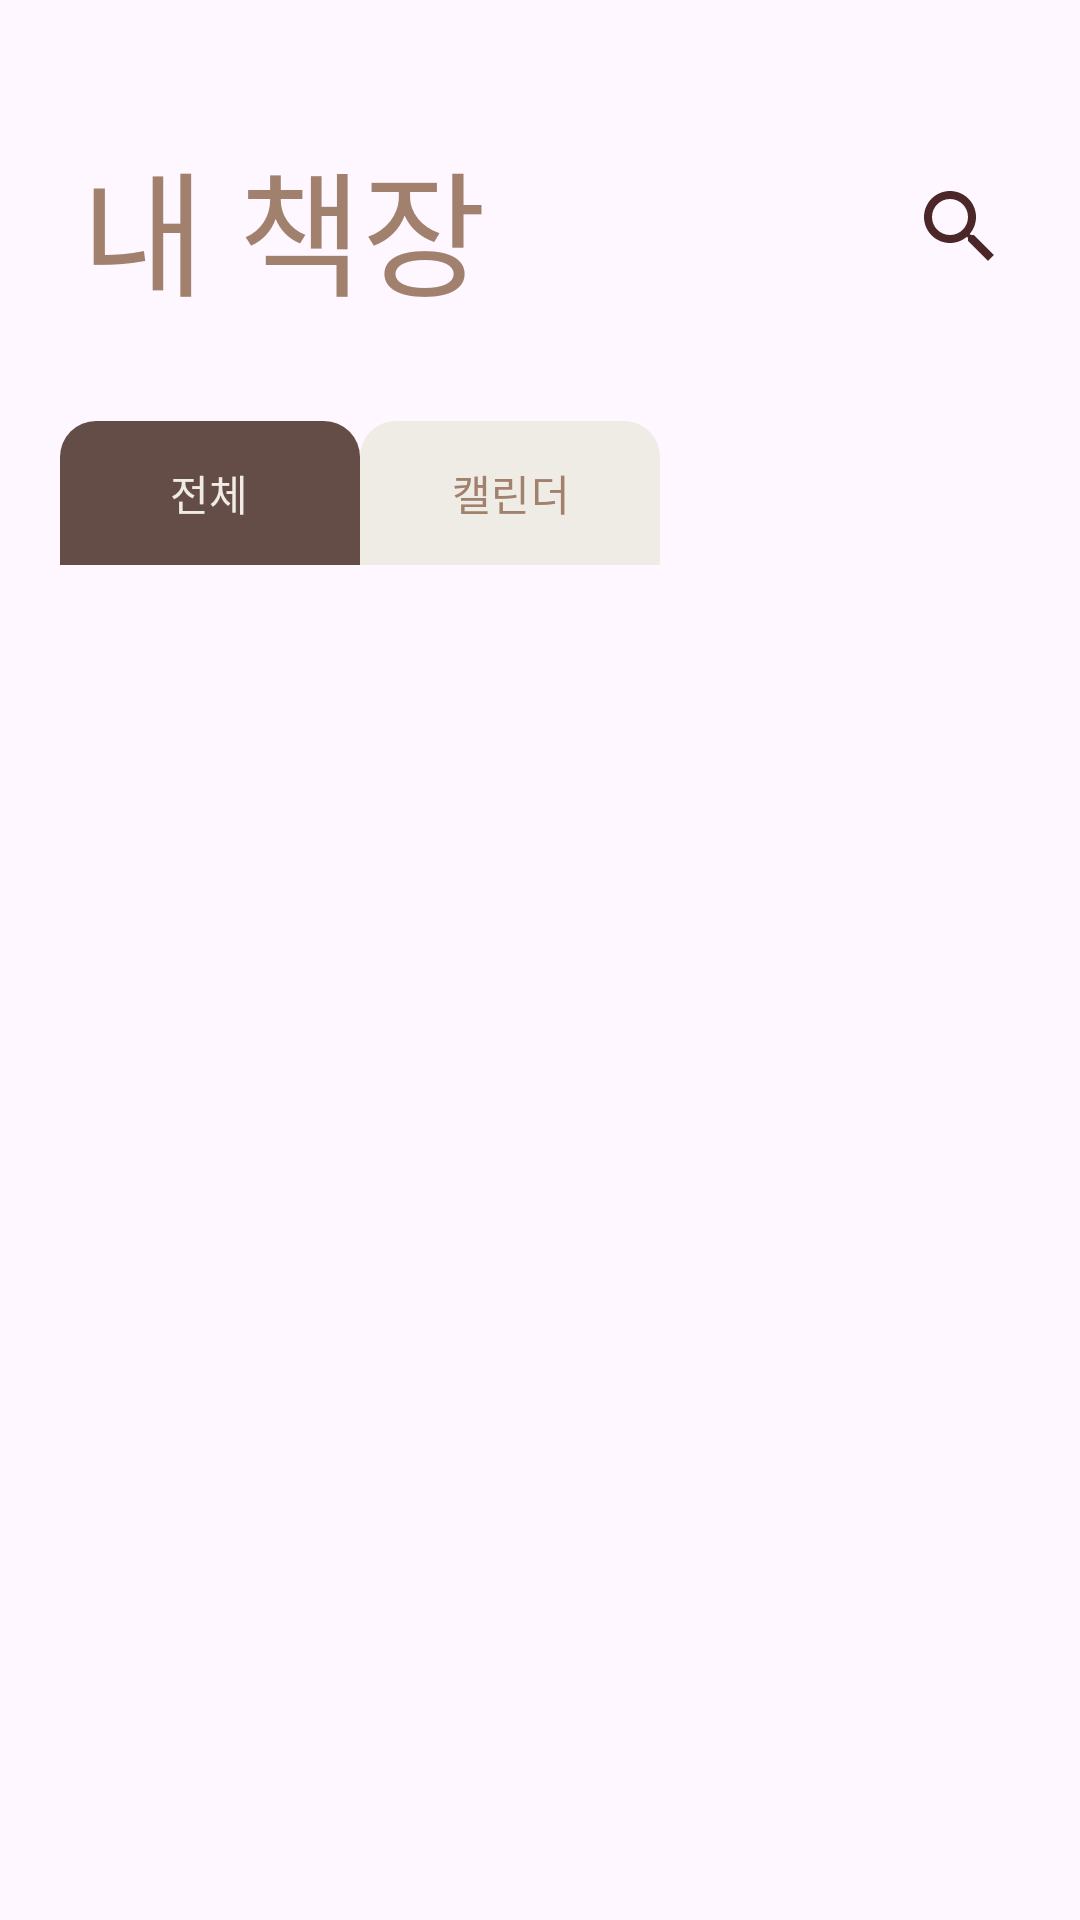

Named icons in this screenshot (1080 × 1920) and their centers, [x,y]:
search: [959,226]
